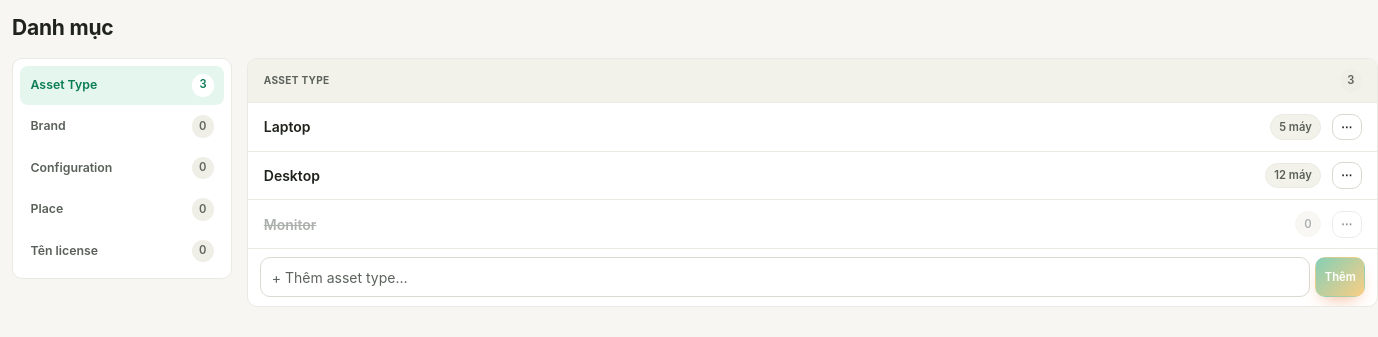
Scenario: CatalogPage — bảng 3 cột › menu ⋯ → Sửa mở ô nhập inline
This screenshot has width=1378, height=337.
Expected: the text "Laptop" is shown, [264,118,311,136]
⋯ của hàng đầu (Laptop) → Sửa → input hiện giá trị hiện tại
Click the button named "Thao tác": coordinates (1347, 127) [1332,114,1362,140]
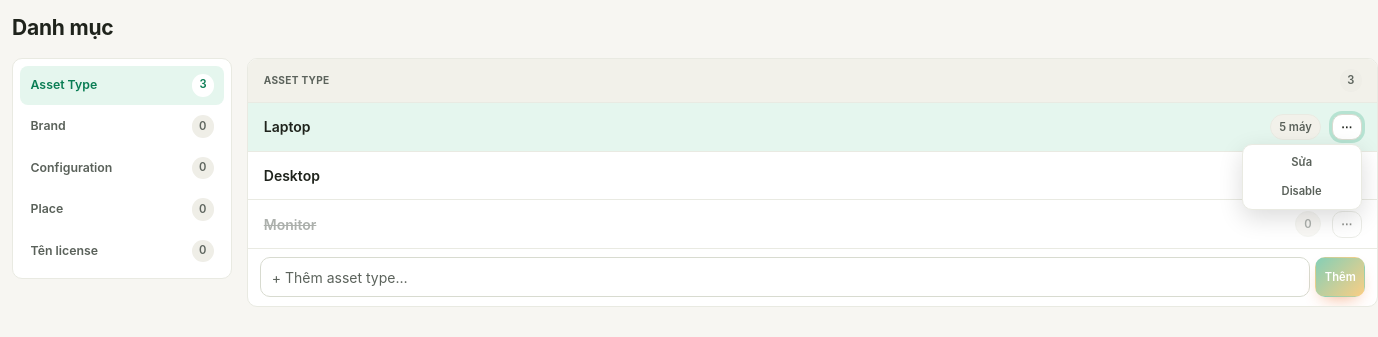
Click the button "Sửa": coordinates (1302, 163) [1247,149,1357,176]
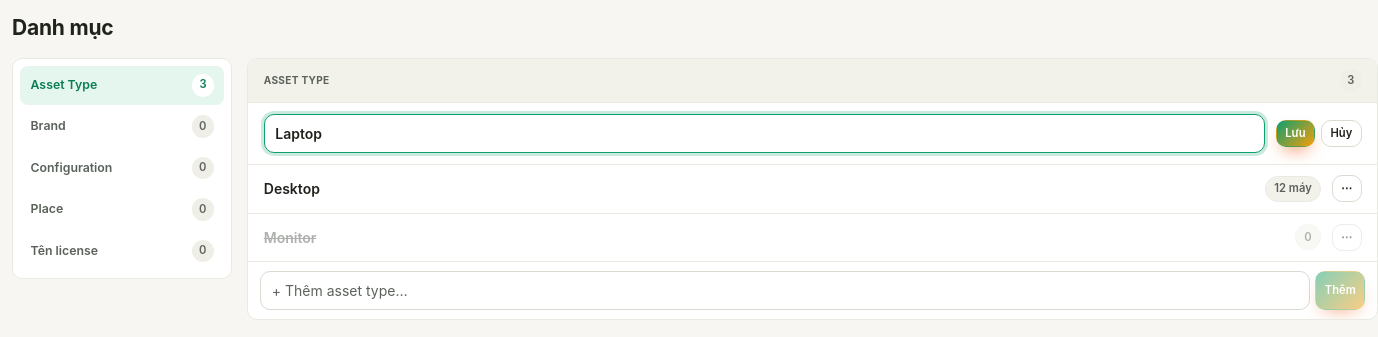
Result: the field showing "Laptop" is shown at [264,114,1265,154]
